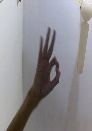hand: (32, 25, 62, 101)
